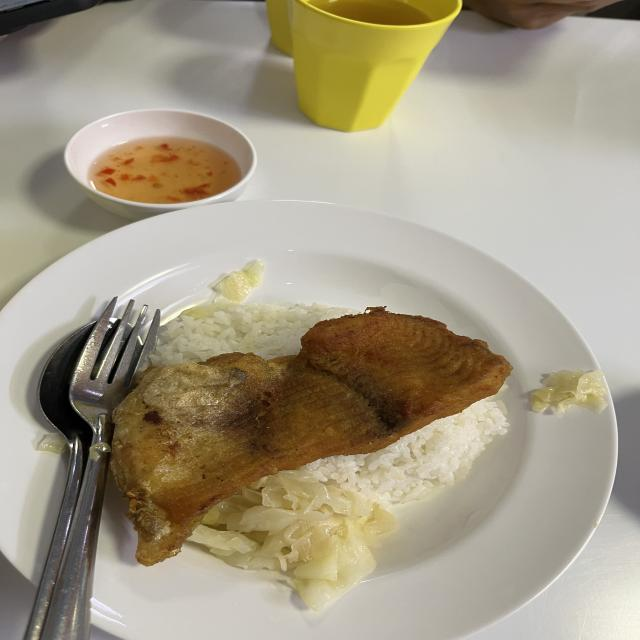ca chien: (110, 307, 513, 565)
com: (300, 400, 507, 505), (151, 299, 360, 365)
nuoc mam: (89, 138, 243, 204)
rau: (190, 472, 398, 610), (530, 369, 607, 413), (211, 260, 264, 303)
